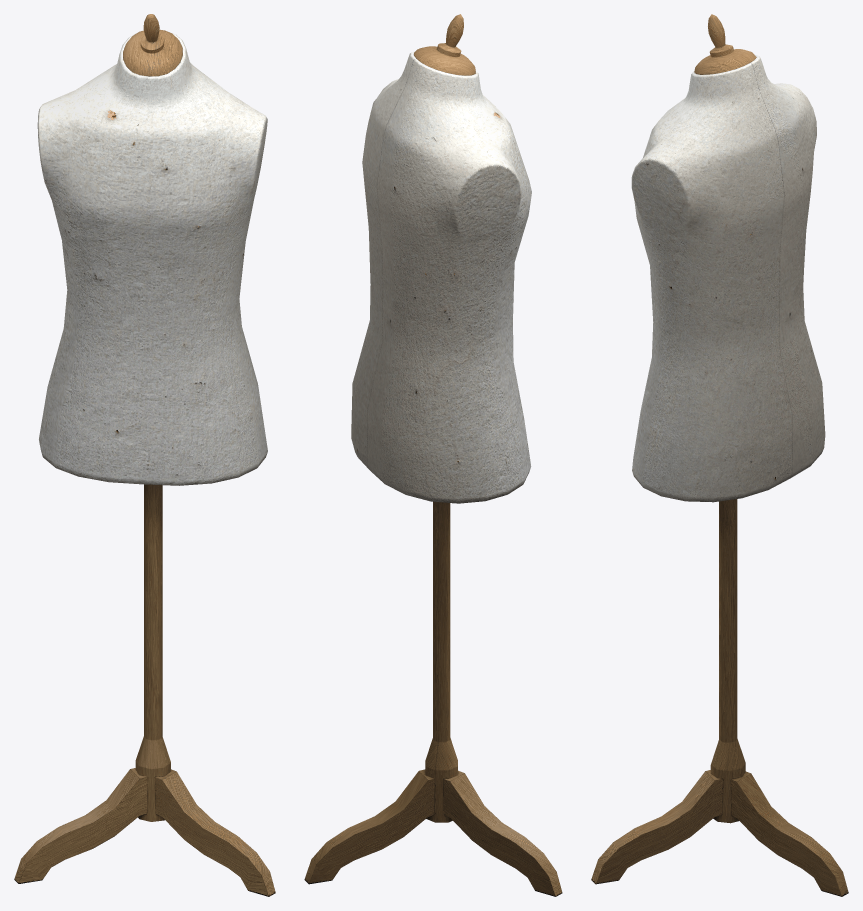
The model's file is Mannequin7 (4.12038, 6.22918, 0.3).glb.
The picture shows the model from 3 angles, left to right: view 1: azimuth 30°, elevation 25°; view 2: azimuth 150°, elevation 25°; view 3: azimuth 270°, elevation 25°; orthographic projection.
Parts seen in each view (by area): view 1: DressMannequin.013; view 2: DressMannequin.013; view 3: DressMannequin.013.
Boxes of the visible parts, left/top/right/bottom form: DressMannequin.013: left=14, top=14, right=275, bottom=896; DressMannequin.013: left=304, top=14, right=562, bottom=896; DressMannequin.013: left=591, top=14, right=848, bottom=896.
Size of the model in its own units: 0.5038 by 1.86 by 0.5166.
1 material, 1 textured.
